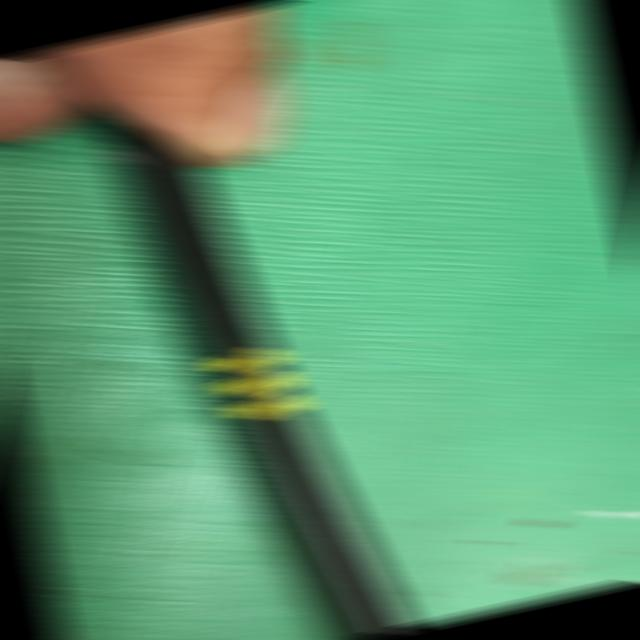yellow: (205, 347, 310, 426)
